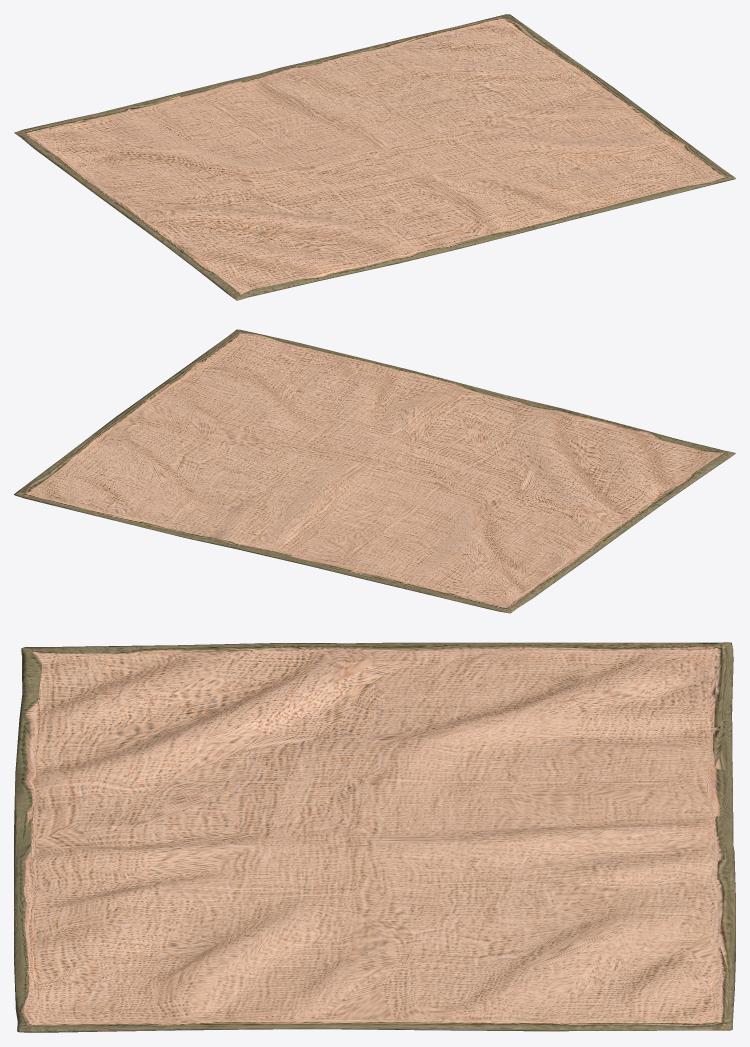
File: mat-pepper-v1.glb
The picture shows the model from 3 angles, top to bottom: view 1: azimuth 30°, elevation 25°; view 2: azimuth 150°, elevation 25°; view 3: azimuth 270°, elevation 25°; orthographic projection. The views are drawn at different scales.
Parts seen in each view (by area): view 1: tripo_node_36f22074-dbb4-4a1d-b3dc-c9806141963d; view 2: tripo_node_36f22074-dbb4-4a1d-b3dc-c9806141963d; view 3: tripo_node_36f22074-dbb4-4a1d-b3dc-c9806141963d.
Part boxes in pixels (x1,y1,x2,y2): tripo_node_36f22074-dbb4-4a1d-b3dc-c9806141963d: (14, 14, 735, 300); tripo_node_36f22074-dbb4-4a1d-b3dc-c9806141963d: (14, 329, 735, 613); tripo_node_36f22074-dbb4-4a1d-b3dc-c9806141963d: (14, 642, 735, 1032).
Size of the model in its own units: 0.9495 by 0.0183 by 0.7494.
1 material, 1 textured.
